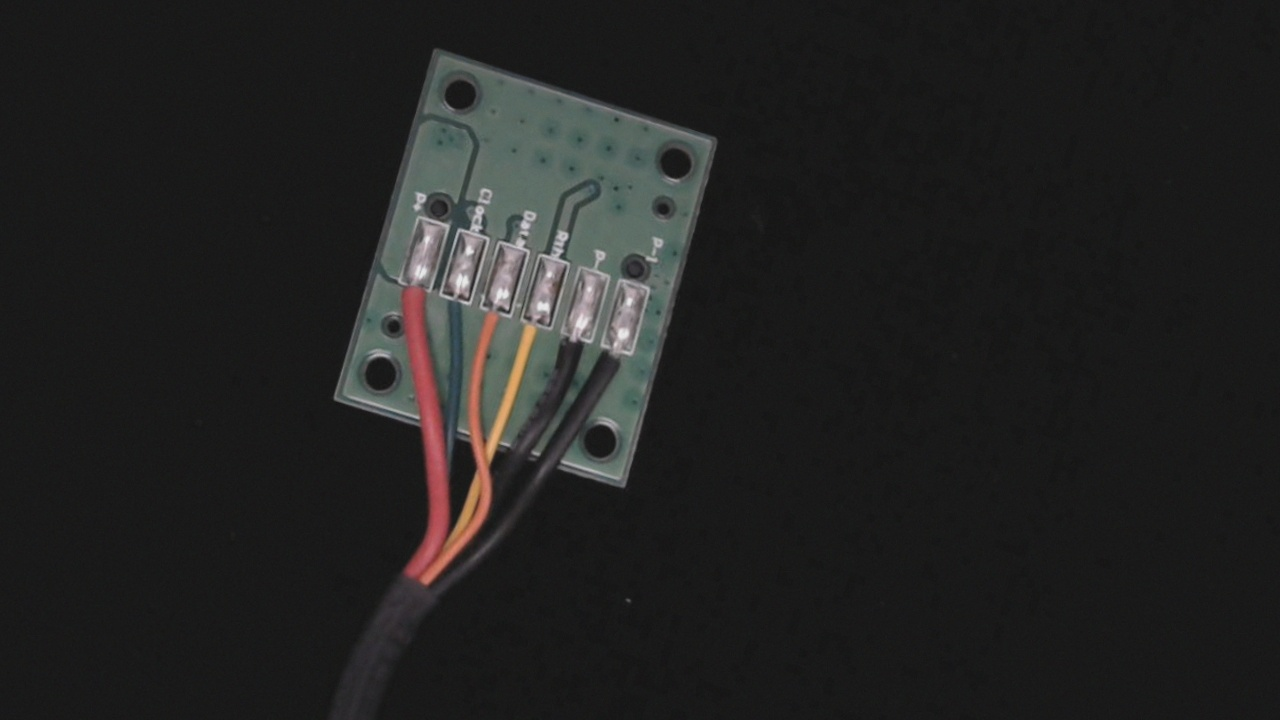Black: (545, 313, 597, 392)
Black1: (587, 326, 639, 400)
Green: (422, 272, 476, 352)
Orange: (463, 286, 514, 363)
Red: (381, 261, 441, 347)
Yellow: (504, 300, 558, 378)
